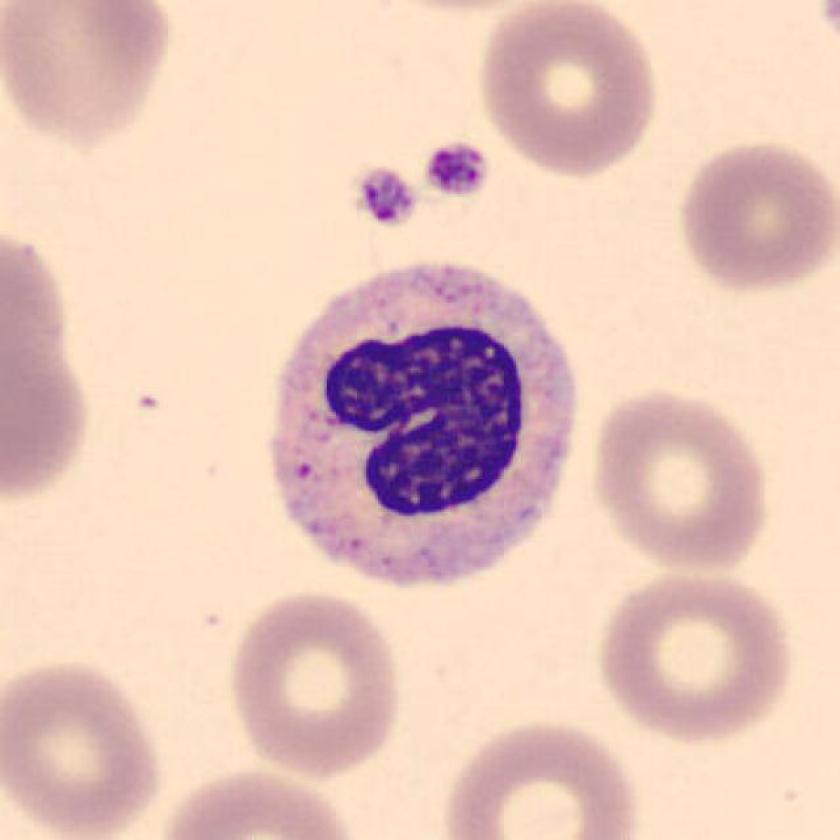neutrophil: (273, 266, 576, 585)
